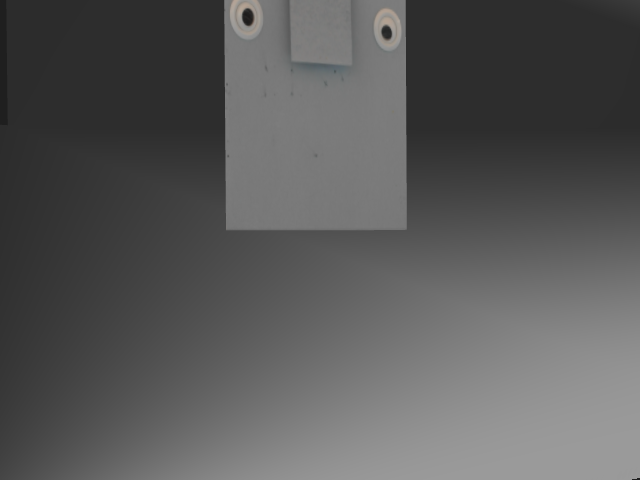facade: (228, 0, 403, 68)
